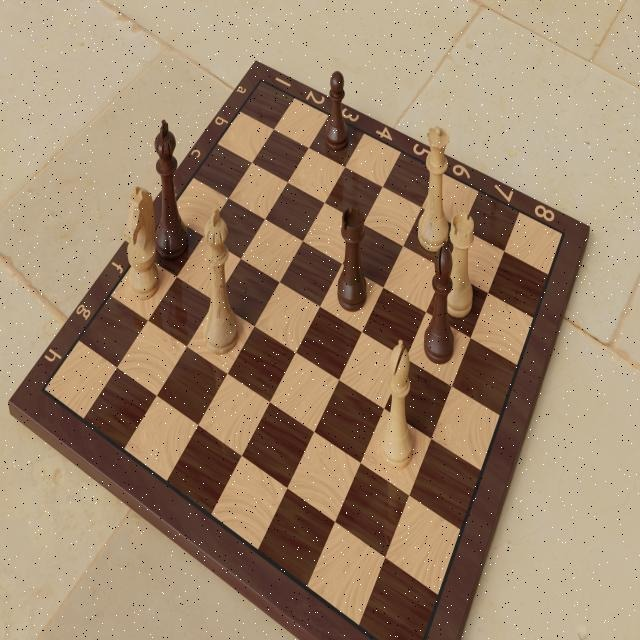black-bishop: (422, 238, 458, 367)
black-king: (148, 116, 188, 255)
black-pawn: (323, 69, 352, 155)
black-rook: (334, 201, 371, 315)
white-bishop: (380, 338, 416, 474)
white-king: (199, 205, 241, 359)
white-knight: (123, 183, 161, 301)
white-queen: (416, 121, 451, 254)
white-rook: (440, 213, 475, 319)
